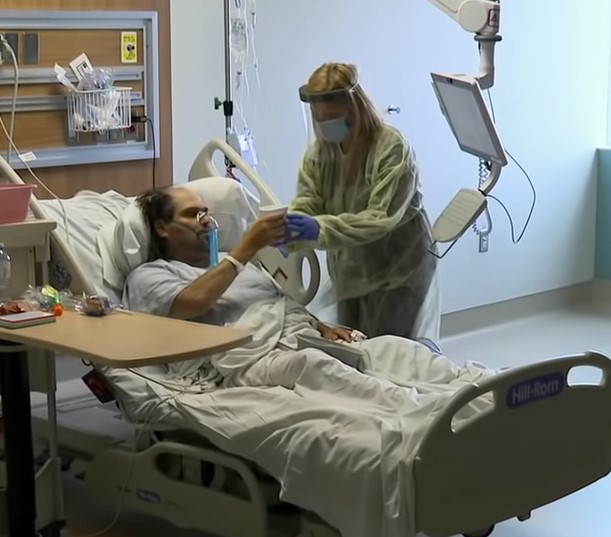face_with_mask: (302, 59, 361, 162)
